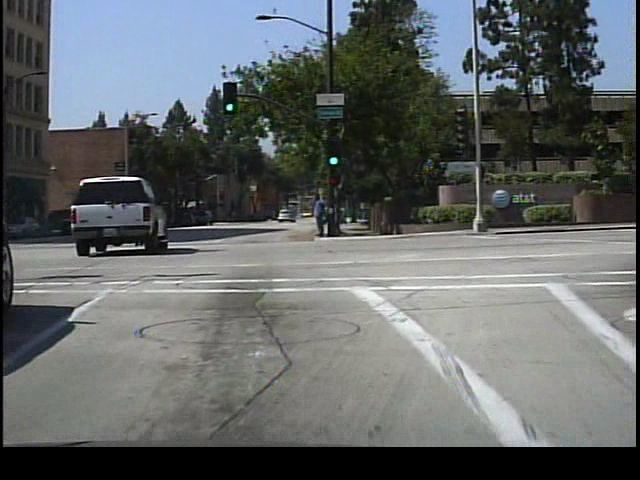person: (308, 188, 330, 237), (314, 192, 332, 236)
